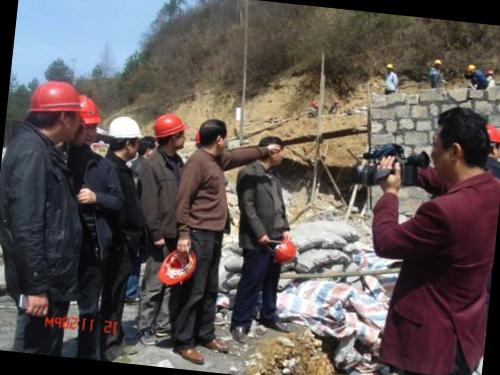no_helmet: (425, 109, 496, 182), (193, 116, 233, 163), (256, 132, 288, 168)
